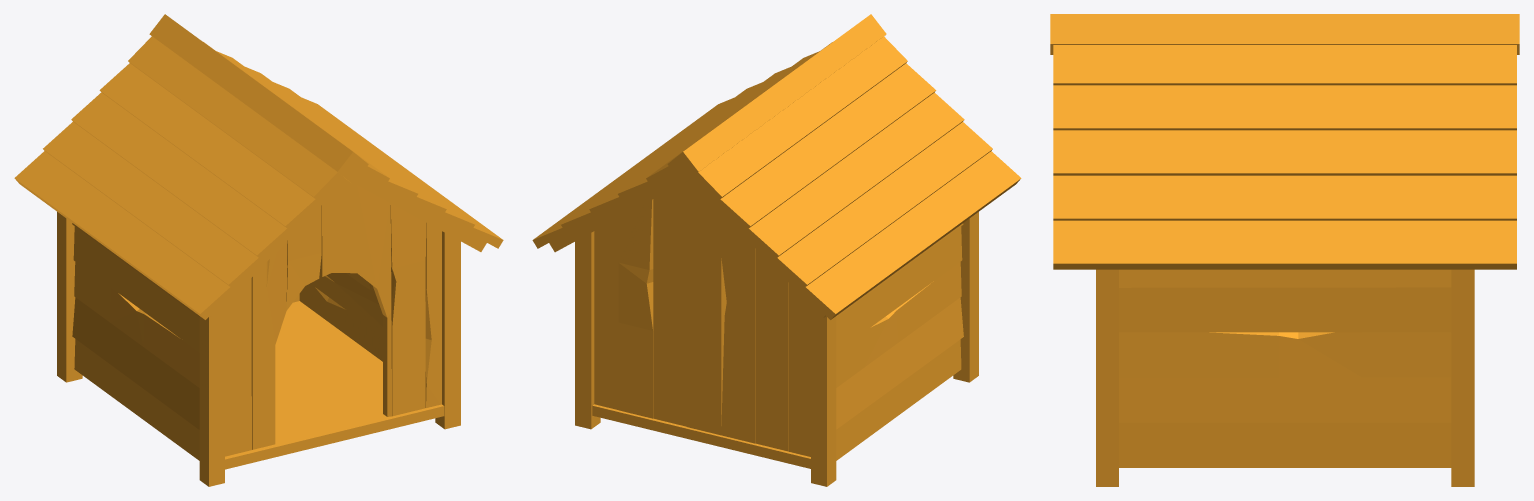
Rendered from SM_Dog_House_B.fbx.
The picture shows the model from 3 angles, left to right: view 1: azimuth 30°, elevation 25°; view 2: azimuth 150°, elevation 25°; view 3: azimuth 270°, elevation 25°; orthographic projection. The views are drawn at different scales.
Parts seen in each view (by area): view 1: dog-house-b; view 2: dog-house-b; view 3: dog-house-b.
Boxes of the visible parts, <box> form: dog-house-b: <box>14,14,503,486</box>; dog-house-b: <box>532,14,1021,486</box>; dog-house-b: <box>1050,14,1519,486</box>.
Size of the model in its own units: 1.19 by 1.2 by 1.28.
